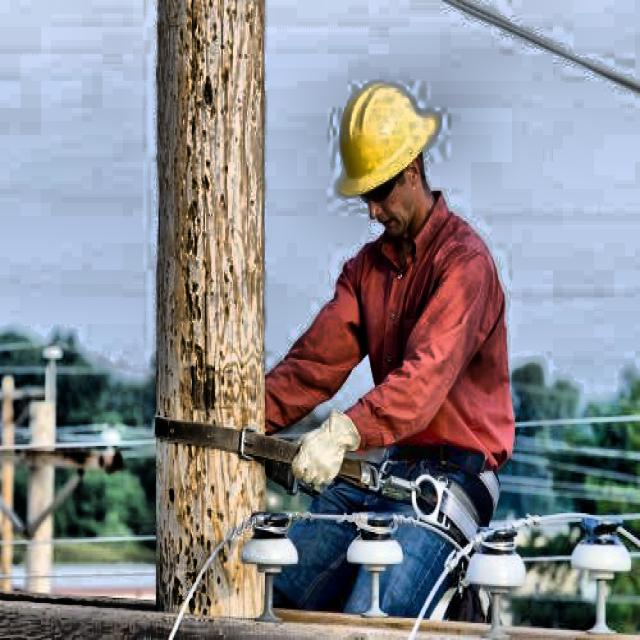helmet: (338, 81, 444, 233)
